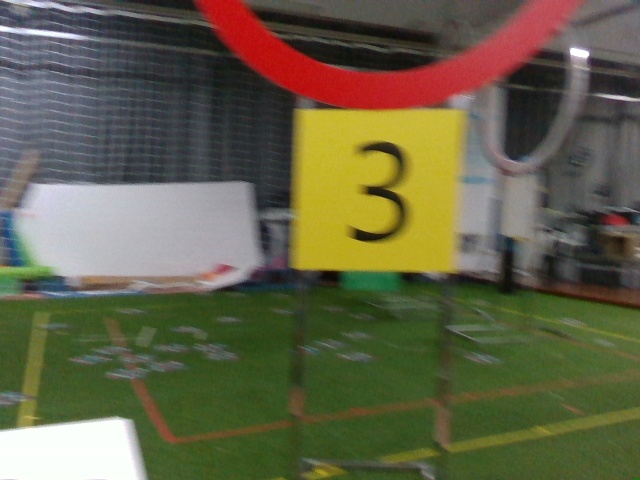target: (303, 124, 452, 271)
